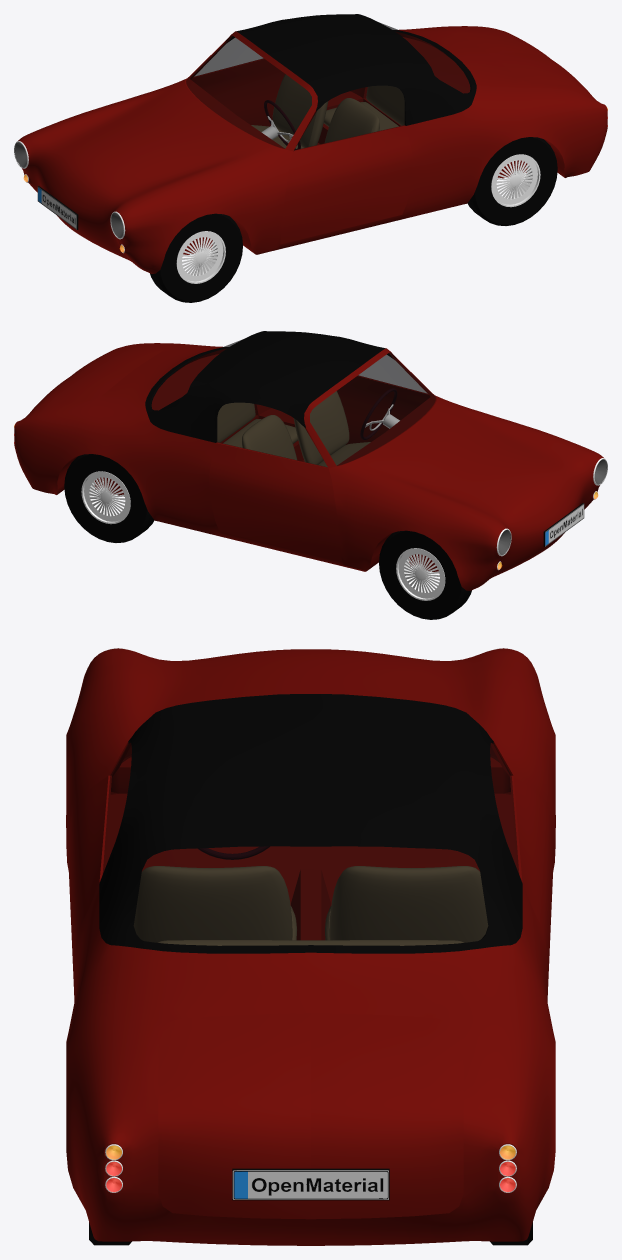
Rendered from vehicle_example.gltf.
The picture shows the model from 3 angles, top to bottom: view 1: azimuth 30°, elevation 25°; view 2: azimuth 150°, elevation 25°; view 3: azimuth 270°, elevation 25°; orthographic projection. The views are drawn at different scales.
Parts seen in each view (by area): view 1: Body, Roof, Door_FL, Window_F, Window_FL, Tire_FL, Tire_BL, Door_FR, Trunk_Lid, FrontSeat_Backrest_R, Rim_FL, Rim_BL (+6 smaller); view 2: Body, Roof, Door_FR, Window_F, Window_FR, Tire_FR, Tire_BR, Door_FL, Trunk_Lid, FrontSeat_Backrest_L, Rim_FR, Rim_BR (+7 smaller); view 3: Body, Roof, Trunk_Lid, Window_R, FrontSeat_Backrest_L, FrontSeat_Backrest_R, Number_Plate_R, Door_FL, Door_FR, RearSeat_Backrest, Window_FL, Window_FR.
Boxes of the visible parts, x1,y1,x2,y2 form: Body: (18, 26, 607, 273); Roof: (228, 14, 476, 125); Door_FL: (280, 125, 412, 244); Window_F: (186, 35, 311, 148); Window_FL: (294, 86, 404, 150); Tire_FL: (150, 213, 242, 302); Tire_BL: (467, 137, 557, 225); Door_FR: (191, 58, 284, 126); Trunk_Lid: (455, 28, 586, 89); FrontSeat_Backrest_R: (272, 74, 328, 147); Rim_FL: (176, 231, 225, 283); Rim_BL: (491, 154, 540, 207); Body: (14, 343, 603, 590); Roof: (145, 331, 393, 442); Door_FR: (209, 442, 341, 561); Window_F: (310, 352, 435, 465); Window_FR: (217, 403, 327, 467); Tire_FR: (379, 530, 471, 619); Tire_BR: (64, 454, 154, 542); Door_FL: (337, 375, 430, 444); Trunk_Lid: (35, 345, 166, 406); FrontSeat_Backrest_L: (293, 391, 349, 464); Rim_FR: (396, 548, 445, 600); Rim_BR: (81, 471, 130, 524); Body: (66, 648, 555, 1245); Roof: (99, 694, 522, 953); Trunk_Lid: (158, 1013, 463, 1219); Window_R: (134, 846, 487, 945); FrontSeat_Backrest_L: (133, 866, 292, 942); FrontSeat_Backrest_R: (329, 866, 488, 942); Number_Plate_R: (232, 1168, 389, 1200); Door_FL: (68, 775, 111, 1001); Door_FR: (510, 775, 553, 1001); RearSeat_Backrest: (158, 940, 463, 945); Window_FL: (103, 742, 131, 872); Window_FR: (490, 742, 518, 872).
Size of the model in its own units: 3.85 by 1.3 by 1.62.
11 materials, 1 textured.
